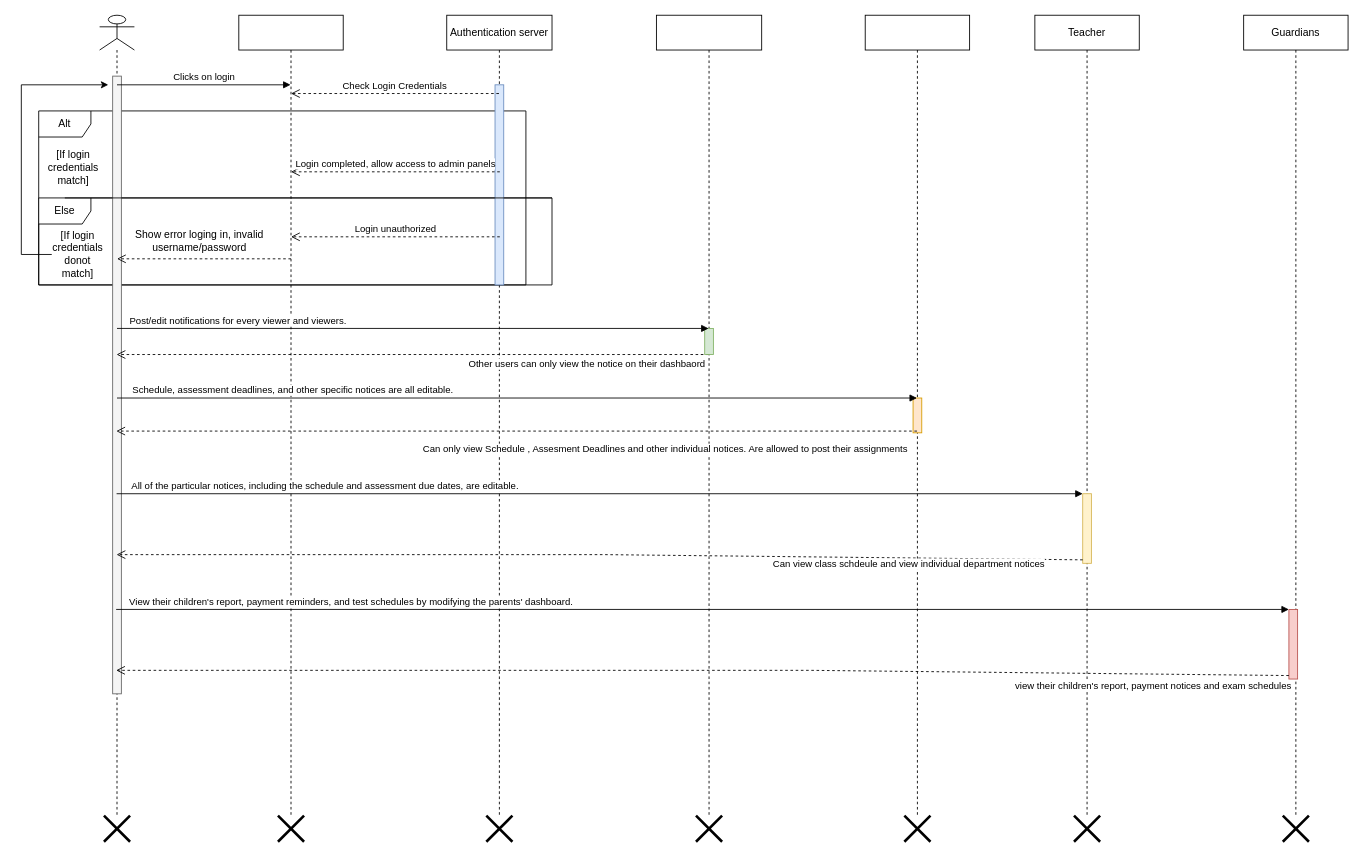
Image size: 1363x858. Some labels were removed from this diagram. Here are the shapes that lost their labels. From the top down, the box of each, then its label:
(238, 14, 343, 816): Admin Login Page
(656, 14, 762, 816): General Notification Pannel
(864, 14, 970, 816): Students
